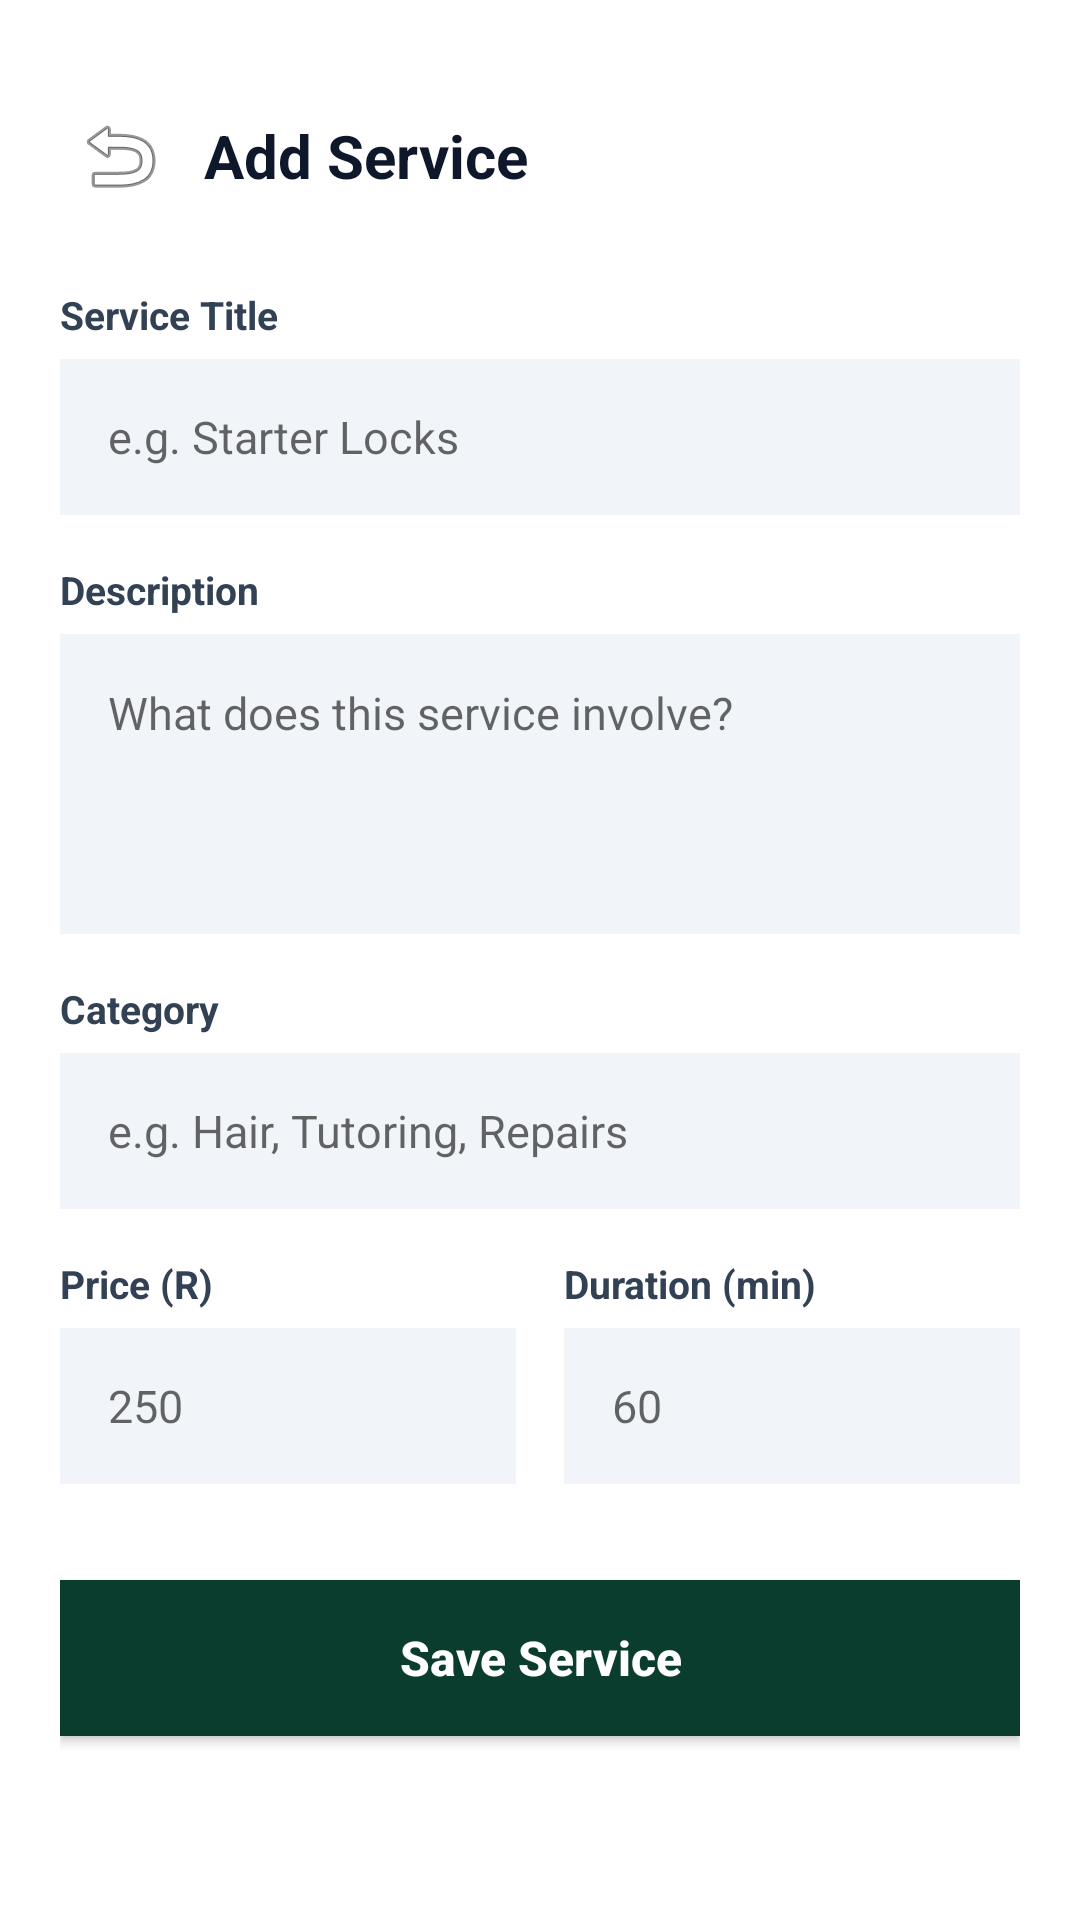

Screen size 1080w x 1920h. Icon name, then its center in pixels as (x,y):
Back: (121,156)
